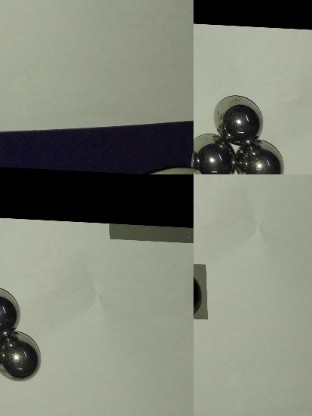ironball: (211, 90, 263, 143), (0, 332, 51, 383), (234, 139, 280, 175), (108, 221, 193, 240), (193, 133, 234, 170), (0, 278, 26, 335), (193, 260, 206, 318)
